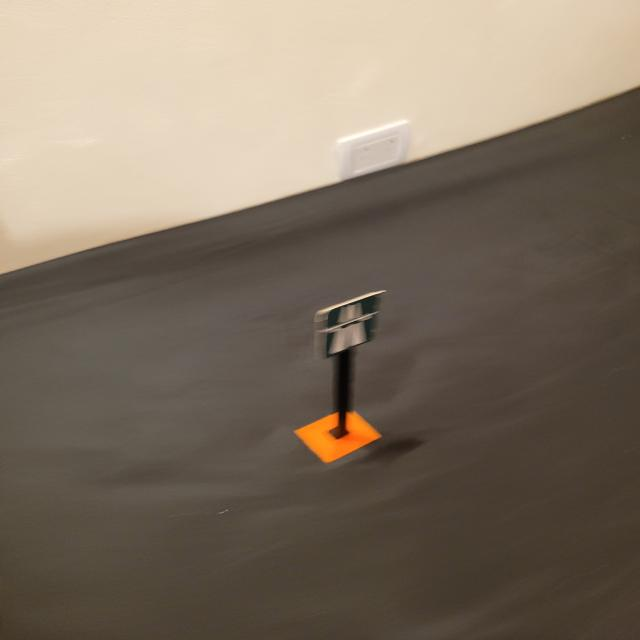highway_entrance: (315, 291, 382, 357)
